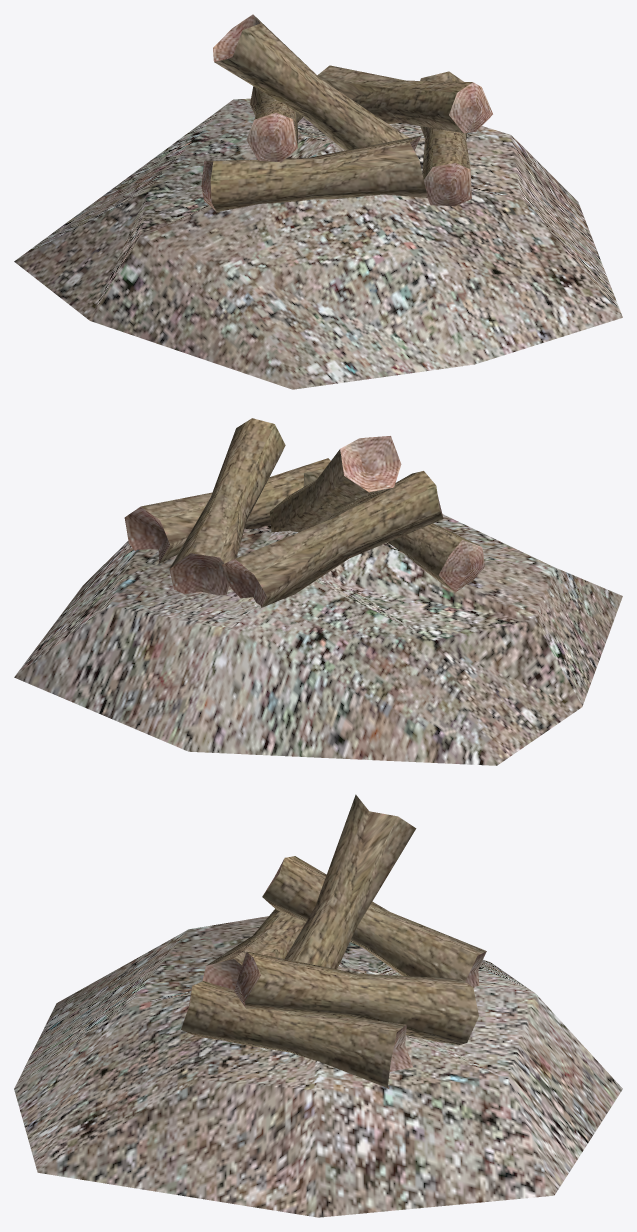
File: eqp_camping_log_fresh_l0.fbx
3 renders of one model, top to bottom at view 1: azimuth 30°, elevation 25°; view 2: azimuth 150°, elevation 25°; view 3: azimuth 270°, elevation 25°, orthographic. The views are drawn at different scales.
Visible parts, largest first — view 1: mesh_node; view 2: mesh_node; view 3: mesh_node.
Part boxes in pixels (x1=…): mesh_node: x1=14, y1=14, x2=622, y2=389; mesh_node: x1=14, y1=418, x2=622, y2=765; mesh_node: x1=14, y1=794, x2=622, y2=1217.
Bounding box in the file's own units: 1.08 × 0.498 × 1.08.
